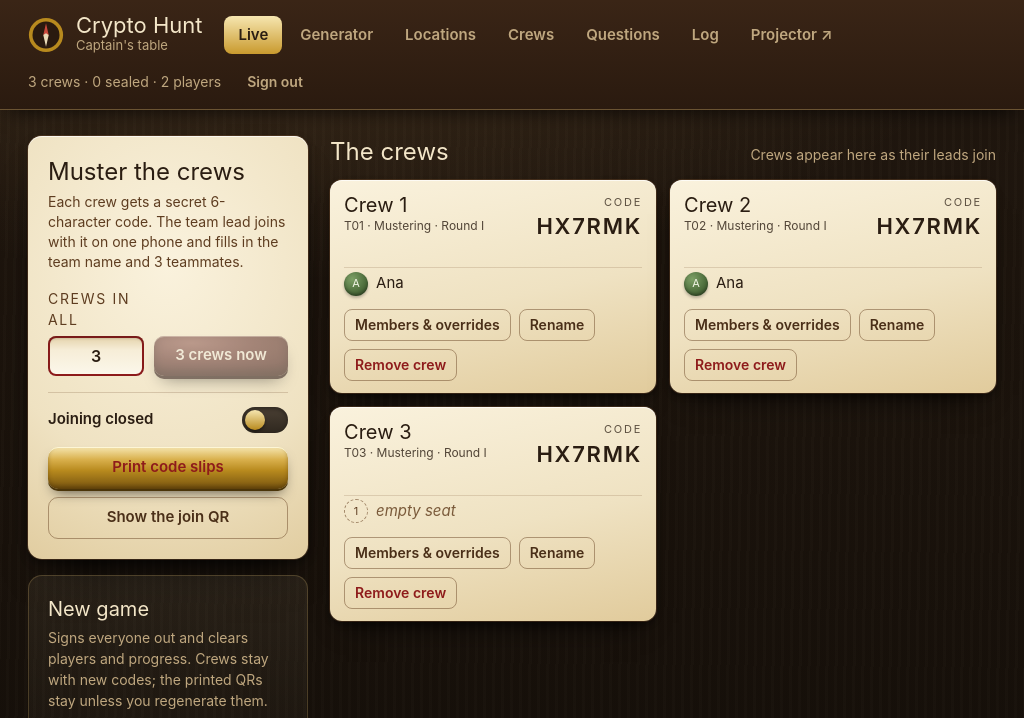
Test case: crew count (D-046) › won't remove crews that players have joined
The image size is (1024, 718).
Replace the text in the field labelled "CREWS IN ALL" with "1" at point(96, 356), box x1=48 y1=336 x2=144 y2=376
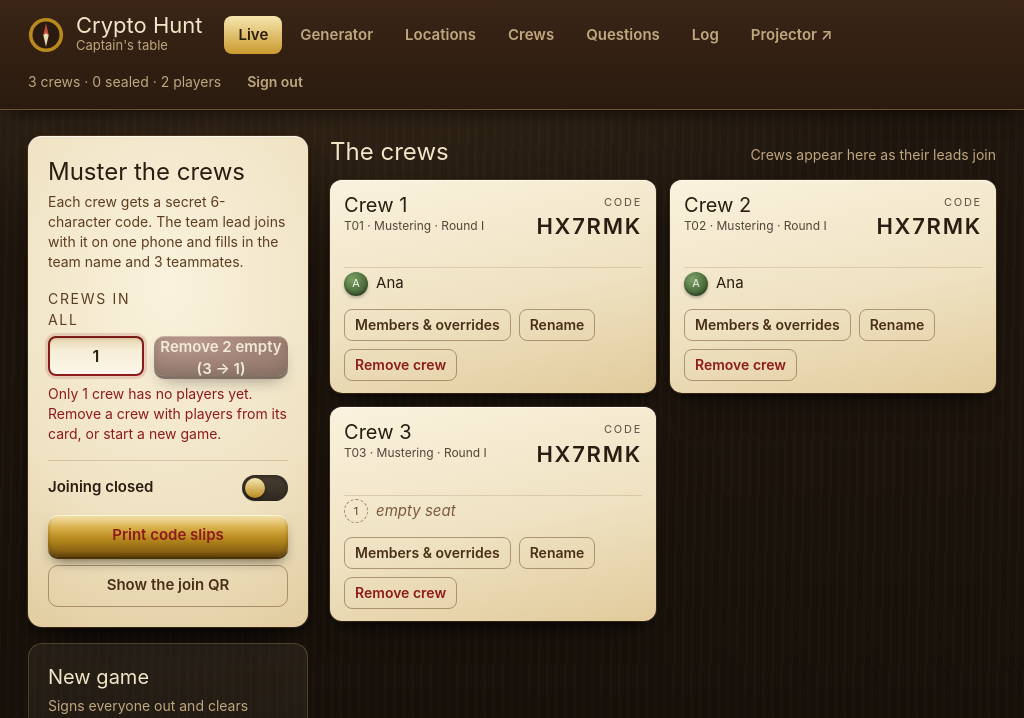
Expected: the button "Remove 2 empty (3 → 1)" is disabled, x1=154 y1=336 x2=288 y2=376
Expected: the text "Only 1 crew has no players yet" is shown, x1=48 y1=384 x2=288 y2=444
